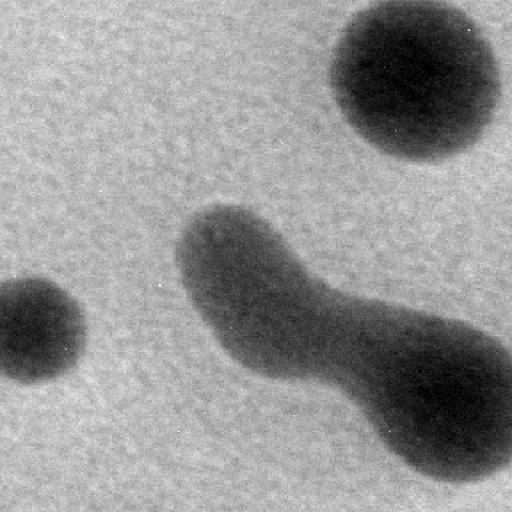Nanoparticles: (330, 1, 504, 166), (374, 316, 512, 478), (208, 271, 322, 382), (178, 202, 282, 308), (0, 278, 86, 387), (297, 286, 382, 392)
